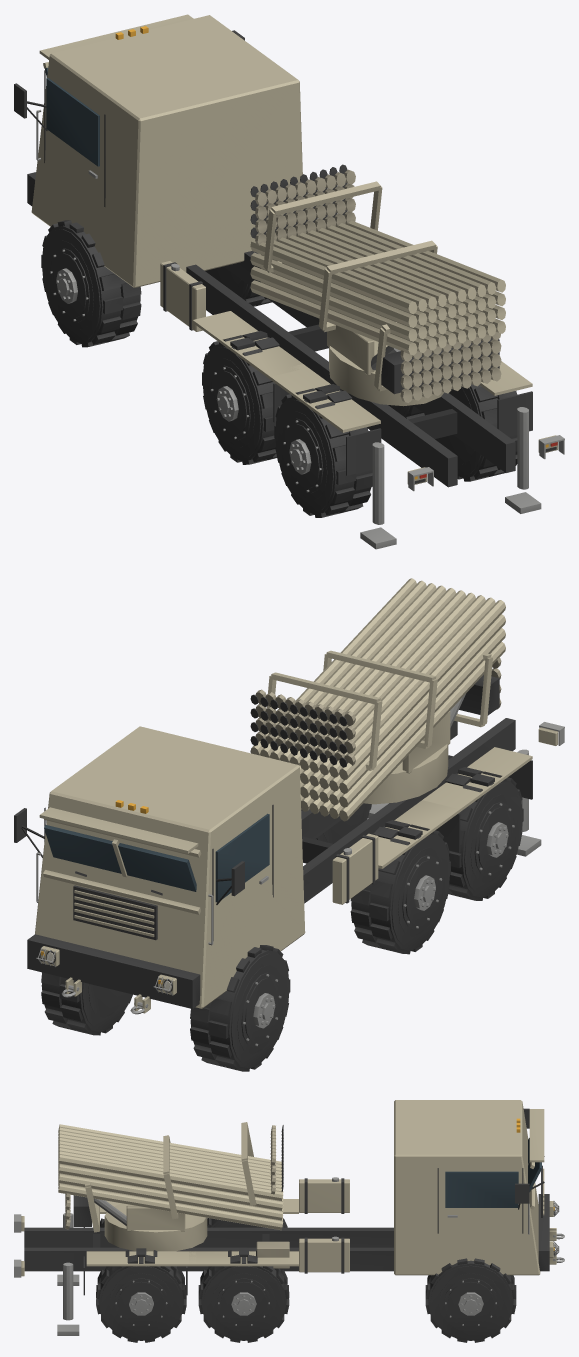
The model's file is rus_mlrs_torg.glb.
3 views of the same model, one above another, from view 1: azimuth 30°, elevation 25°; view 2: azimuth 150°, elevation 25°; view 3: azimuth 270°, elevation 25° (orthographic). The views are drawn at different scales.
Visible parts, largest first — view 1: body, barrel, wheel_0, wheel_4, wheel_2, turret, wheel_5, wheel_1; view 2: body, barrel, wheel_2, wheel_0, wheel_4, wheel_1, turret, wheel_5; view 3: body, barrel, wheel_5, wheel_3, wheel_1, turret, wheel_2.
Part boxes in pixels (bbox=[...]): body: bbox=[14, 14, 564, 549]; barrel: bbox=[250, 164, 505, 402]; wheel_0: bbox=[41, 220, 141, 347]; wheel_4: bbox=[274, 384, 372, 517]; wheel_2: bbox=[202, 330, 279, 464]; turret: bbox=[327, 325, 443, 406]; wheel_5: bbox=[424, 384, 517, 481]; wheel_1: bbox=[205, 266, 271, 306]; body: bbox=[14, 713, 564, 1014]; barrel: bbox=[250, 578, 505, 821]; wheel_2: bbox=[350, 820, 450, 954]; wheel_0: bbox=[190, 945, 290, 1071]; wheel_4: bbox=[445, 767, 523, 900]; wheel_1: bbox=[41, 972, 132, 1035]; turret: bbox=[364, 694, 465, 804]; wheel_5: bbox=[315, 803, 371, 843]; body: bbox=[14, 1100, 564, 1335]; barrel: bbox=[58, 1122, 283, 1232]; wheel_5: bbox=[96, 1248, 186, 1342]; wheel_3: bbox=[198, 1248, 289, 1342]; wheel_1: bbox=[425, 1258, 516, 1342]; turret: bbox=[94, 1198, 207, 1251]; wheel_2: bbox=[207, 1218, 287, 1227].
Size of the model in its own units: 2.4 by 2.75 by 7.35.
